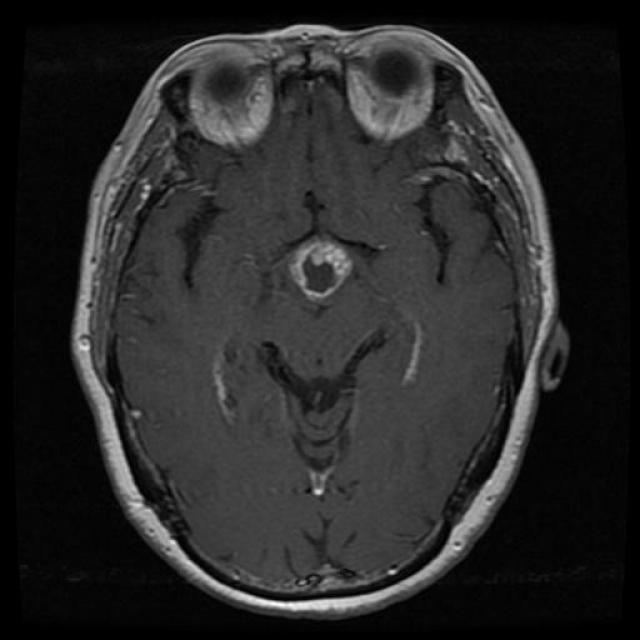Brain-Tumor: (275, 224, 371, 306)
eye: (168, 38, 300, 164), (335, 28, 462, 156)
